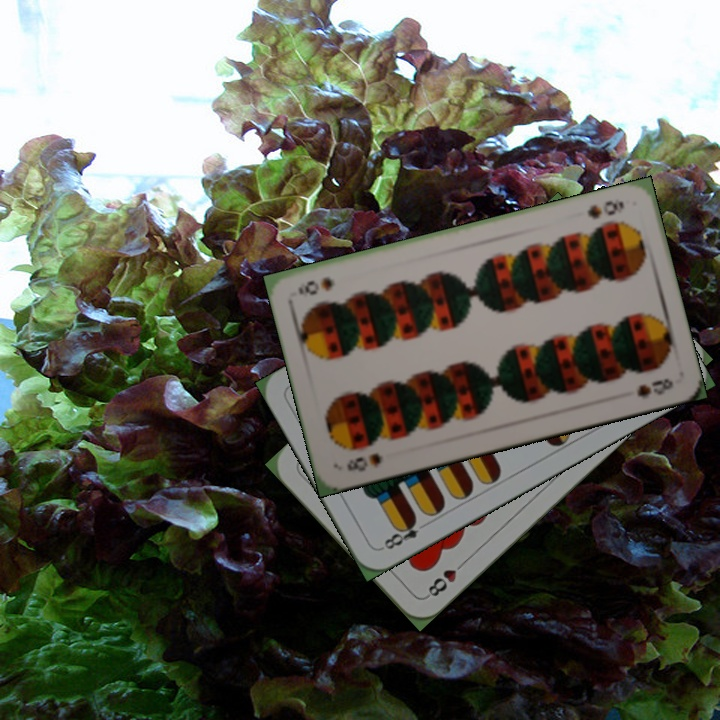E8: (376, 514, 431, 553)
H8: (422, 556, 469, 601)
S8: (583, 194, 627, 222), (343, 449, 385, 474)
